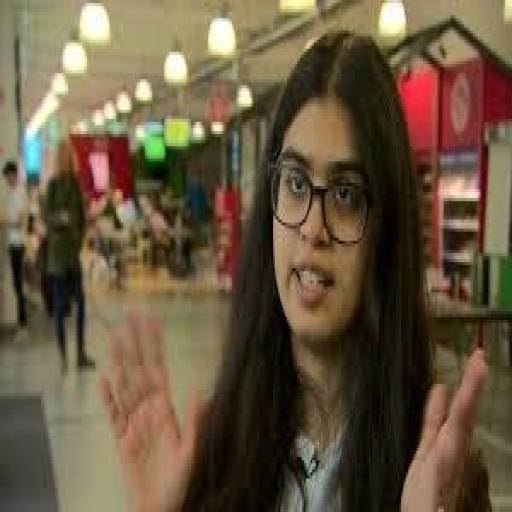clapping: (96, 27, 493, 509)
